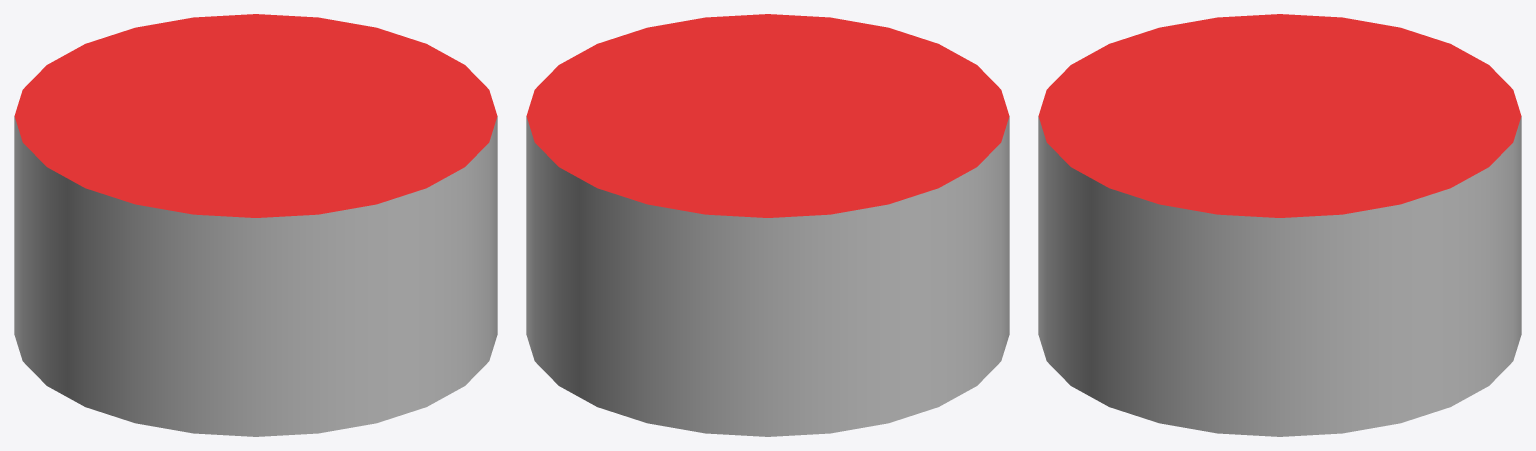
Rendered from scale_test.dae.
3 renders of one model, left to right at view 1: azimuth 30°, elevation 25°; view 2: azimuth 150°, elevation 25°; view 3: azimuth 270°, elevation 25°, orthographic.
Parts seen in each view (by area): view 1: SketchUp (×2); view 2: SketchUp (×2); view 3: SketchUp (×2).
Boxes of the visible parts, box(x1,y1,x2,y2) form: SketchUp (×2): box(14, 14, 497, 436); SketchUp (×2): box(526, 14, 1009, 436); SketchUp (×2): box(1038, 14, 1521, 436).
Size of the model in its own units: 0.7874 by 0.7874 by 0.3937.
